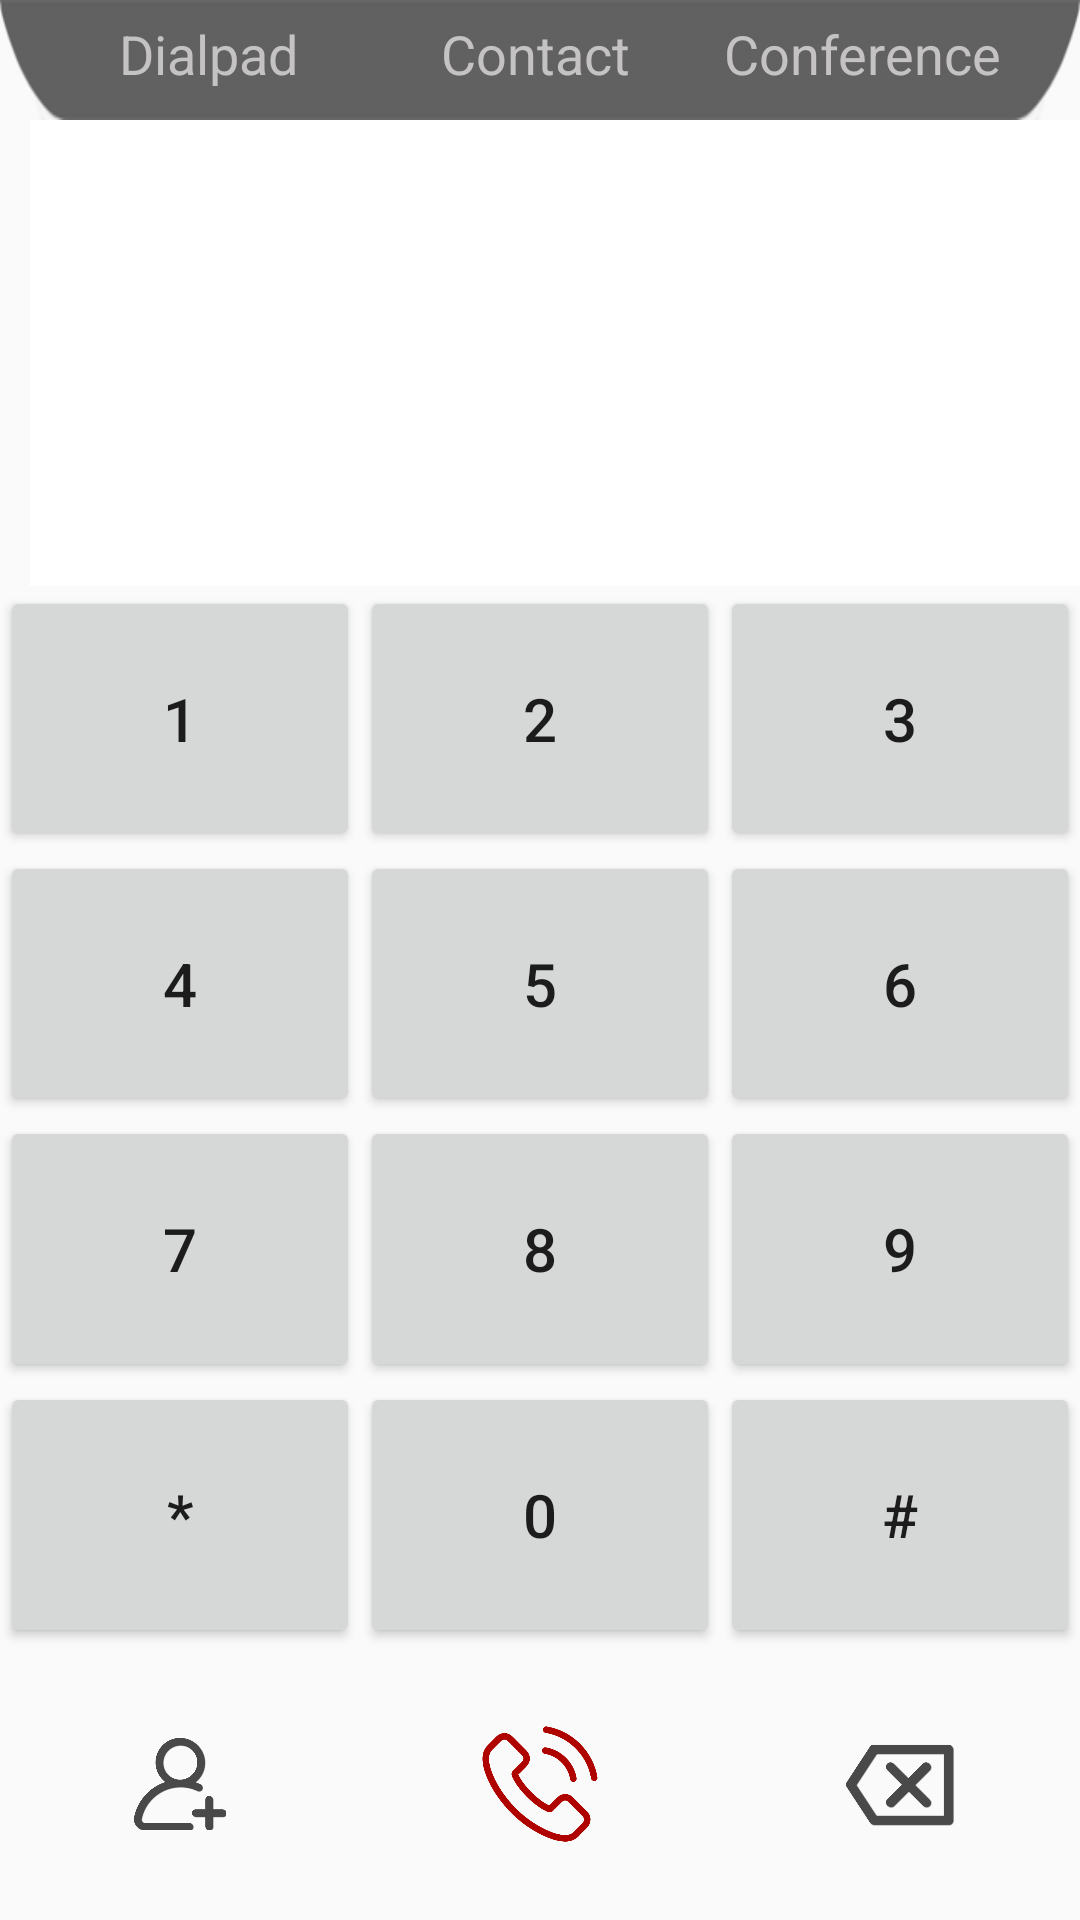

Where icons sit on this 1080 × 1920 app screen, as (x1, y1, x2, y2):
add user: (134, 1738, 226, 1830)
backspace: (846, 1745, 954, 1826)
phone call: (482, 1726, 598, 1842)
